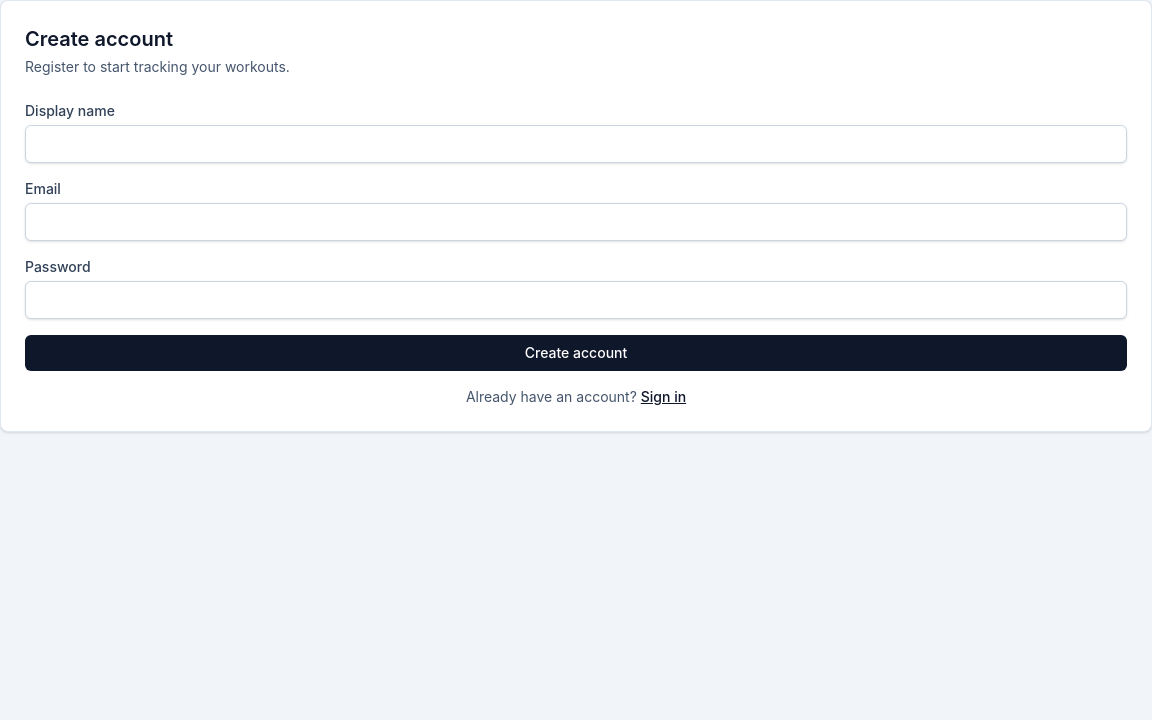
Test: RegisterPage › displays field validation errors from the backend
The width and height of the screenshot is (1152, 720).
Type "Vishal" into the field labelled "Display name" at (576, 144), box [25, 125, 1127, 163]
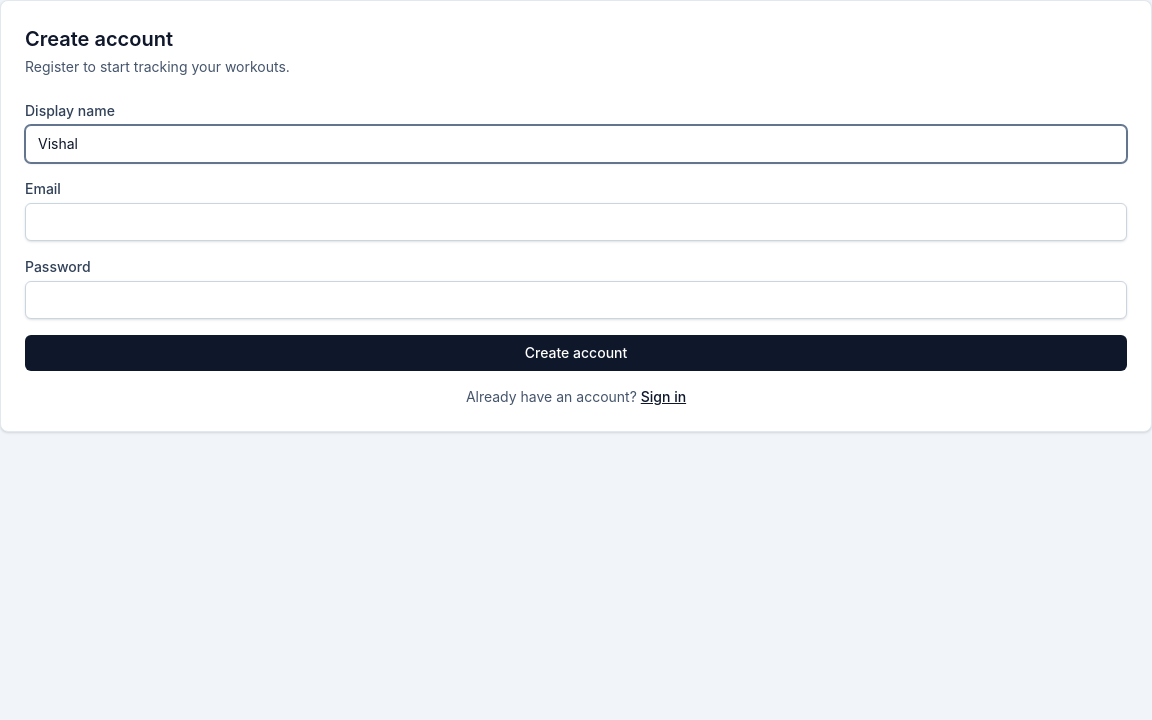
Type "not-an-email" into the field labelled "Email" at (576, 222), box [25, 203, 1127, 241]
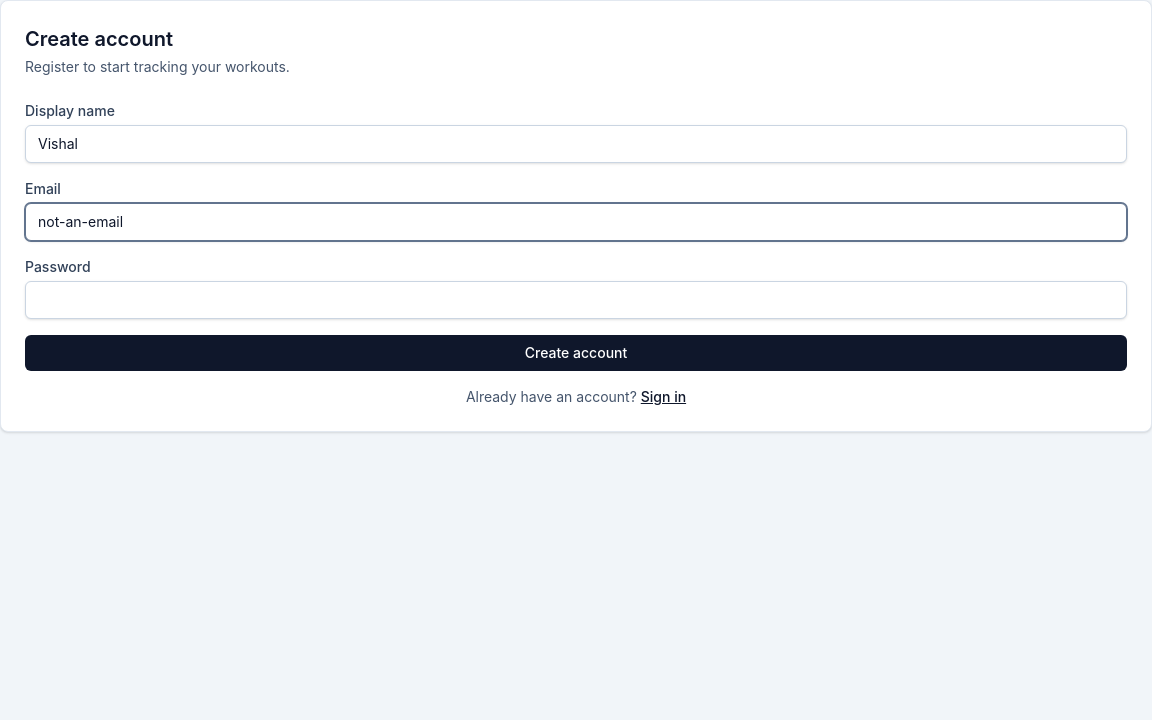
Type "secret-value" into the password field labelled "Password" at (576, 300), box [25, 281, 1127, 319]
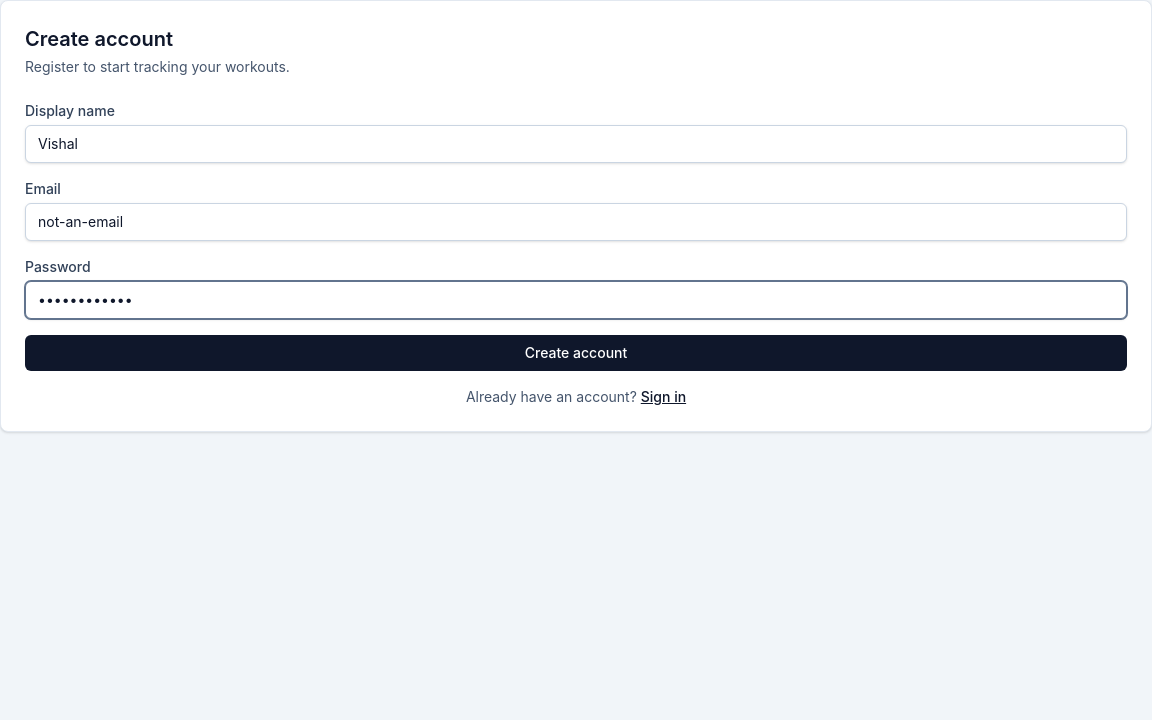
Click the button "Create account" at (576, 353), box [25, 335, 1127, 371]
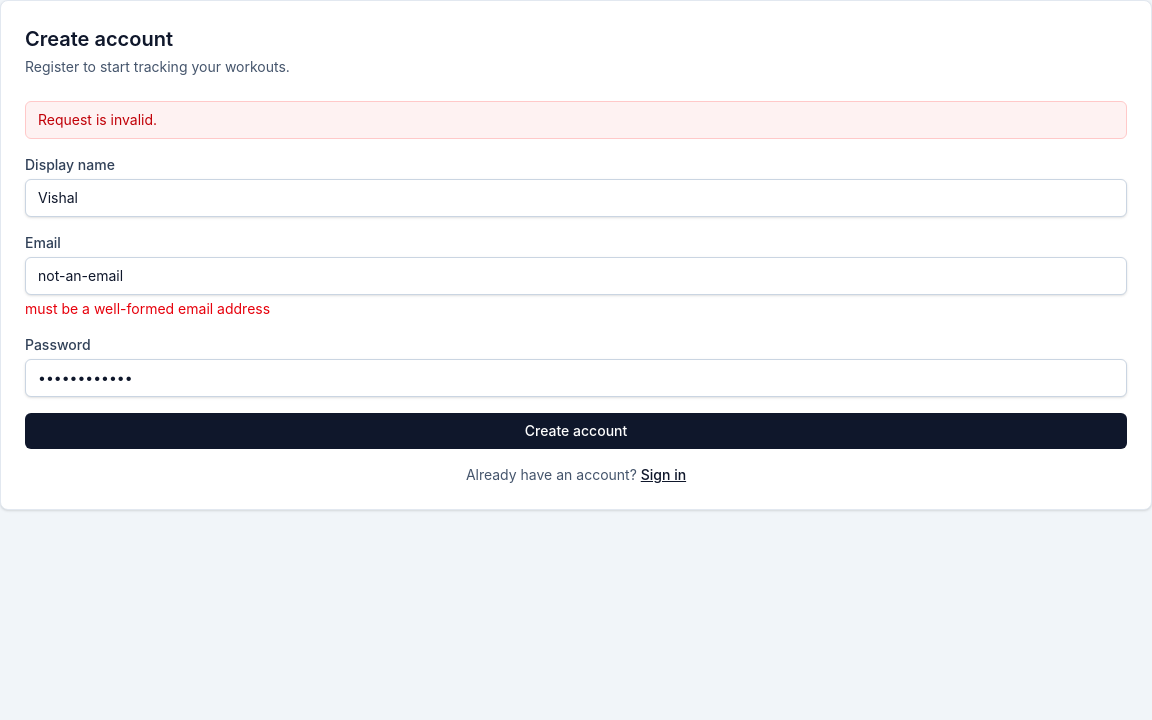
Expected: the text "must be a well-formed email address" is shown, [25, 300, 270, 317]
